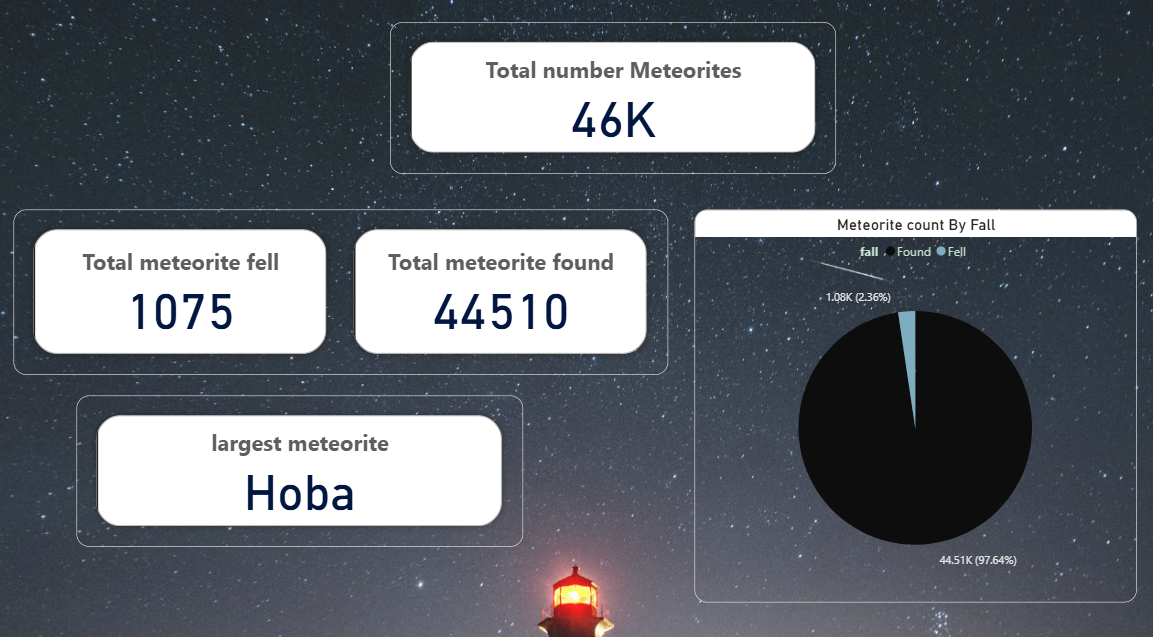

The dashboard page shown, as its layout file describes it:
{"tool":"powerbi","page":{"name":"Page 1","canvas":[1280,720],"ordinal":0},"visuals":[{"type":"cardVisual","fields":{"Data":["_measures.Total meteorite fell","_measures.total meteorite found"]},"box":[20.7,238.4,715.3,180.4],"z":0},{"type":"cardVisual","fields":{"Data":["_measures.Total Meteorites"]},"box":[433.4,33.2,487.3,165.9],"z":1000},{"type":"pieChart","title":"Meteorite count By Fall ","fields":{"Category":["Meteorite.fall"],"Y":["Count(Meteorite.name)"]},"box":[765.1,238.4,483.1,429.2],"z":2000},{"type":"cardVisual","fields":{"Data":["_measures.largest meteorite"]},"box":[89.7,441.4,487.9,165.5],"z":3000}]}

Visuals, with their boxes in screenshot pixels (x1, y1, x2, y2), scaled from the page's 1280x720 canvas onto the 1153x637 screenshot:
cardVisual - _measures.Total meteorite fell x _measures.total meteorite found: 19:211:663:371
cardVisual - _measures.Total Meteorites: 390:29:829:176
"Meteorite count By Fall " pieChart: 689:211:1124:591
cardVisual - _measures.largest meteorite: 81:391:520:537
